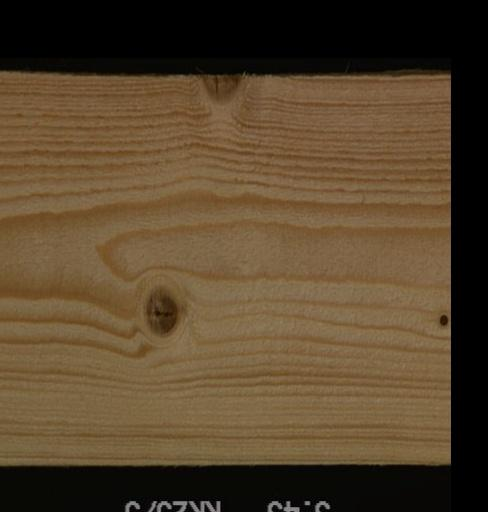dry_knot: (436, 312, 448, 328)
edge_knot: (195, 70, 250, 108)
sound_knot: (139, 286, 180, 340)
